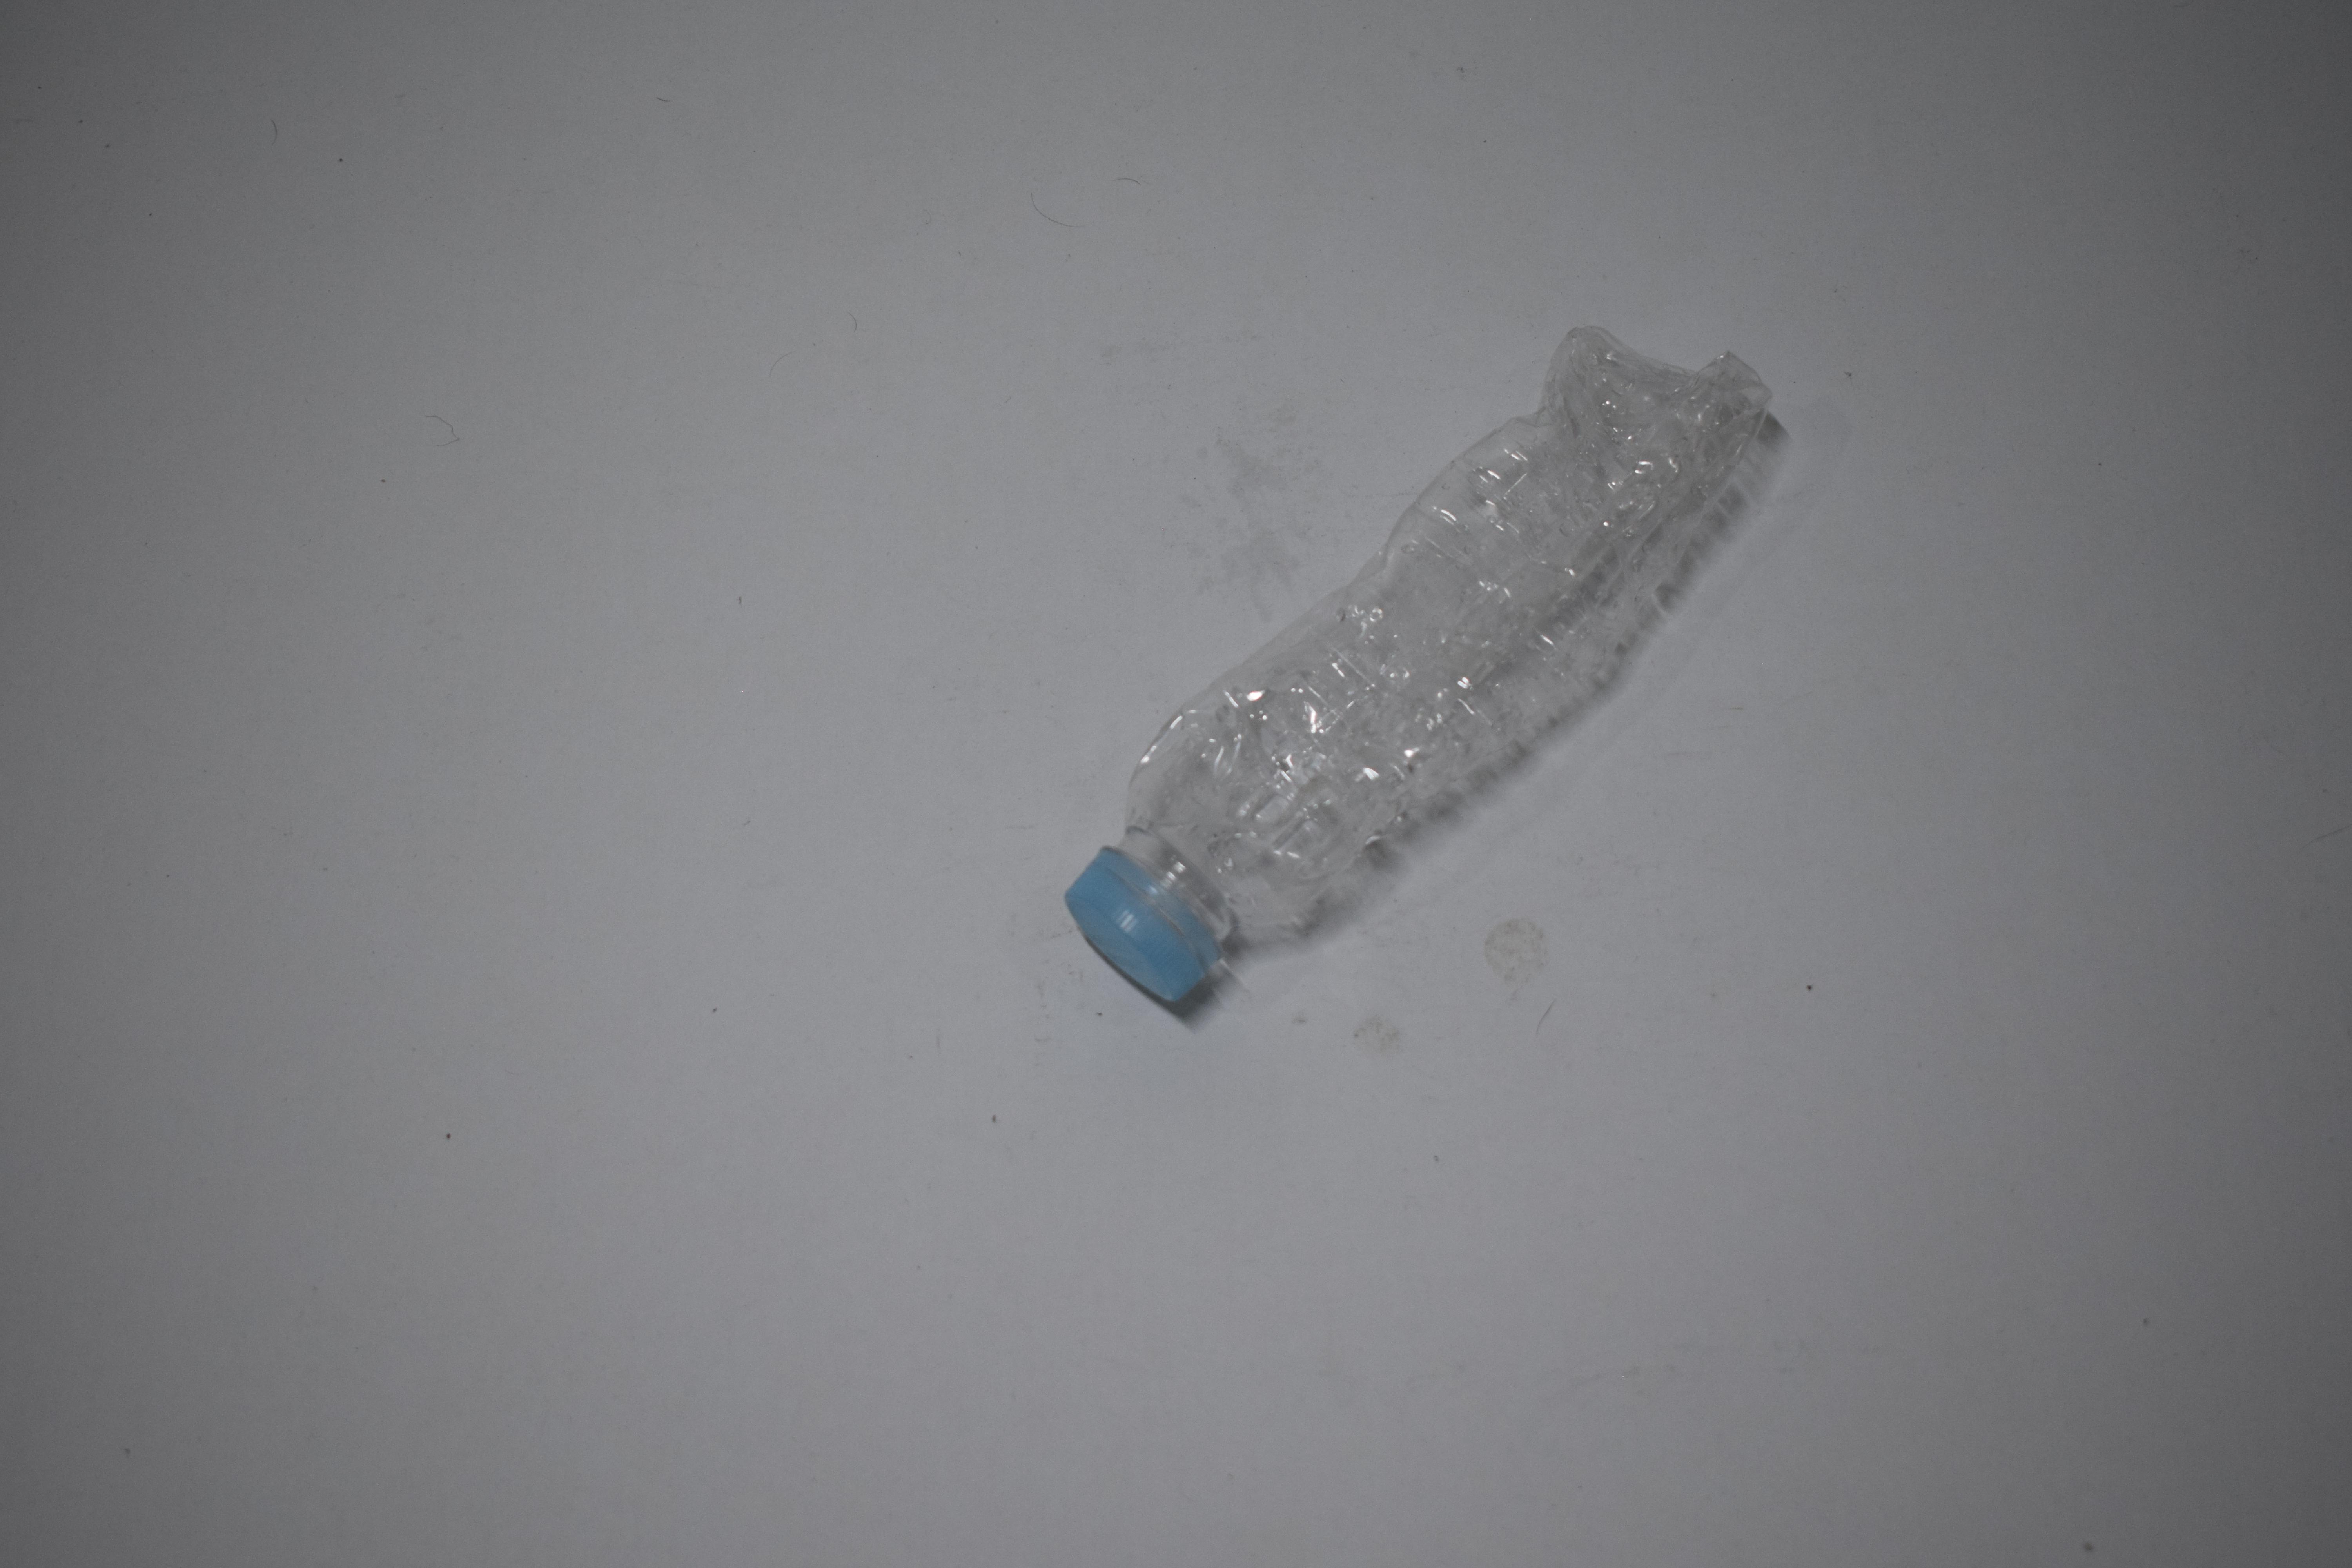bottle: (1047, 345, 1780, 975)
